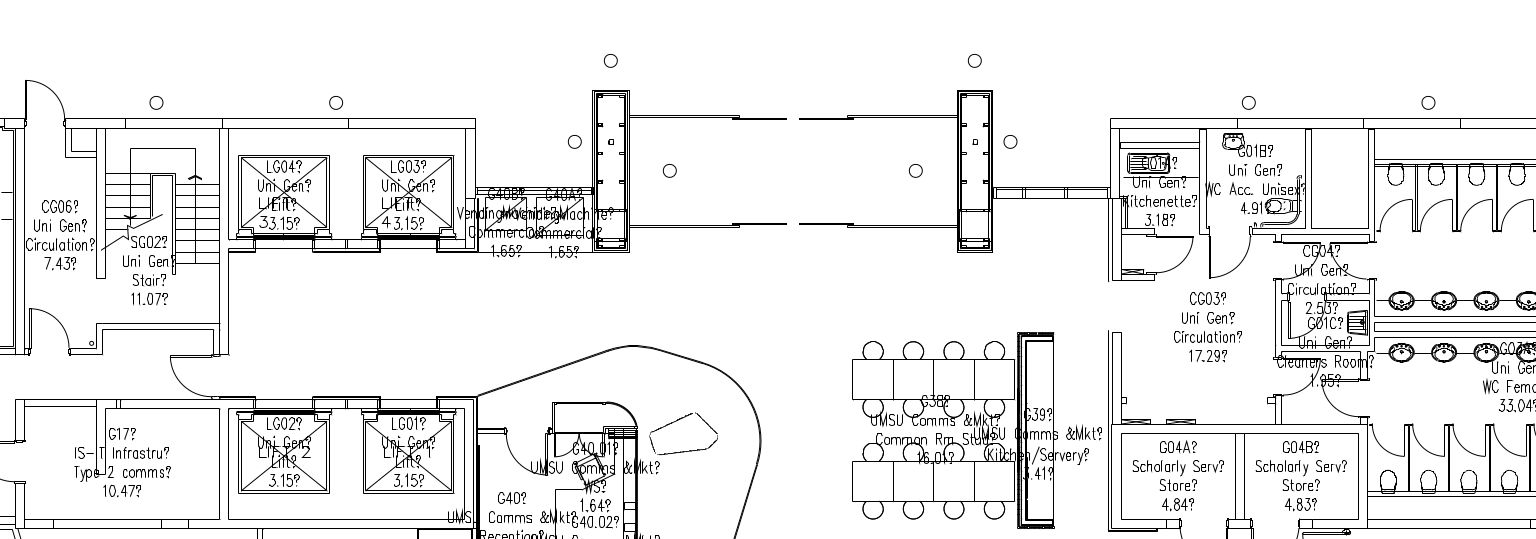door: (29, 302, 74, 350), (22, 71, 67, 119), (505, 431, 550, 479), (1456, 192, 1495, 239), (1210, 235, 1249, 282), (1154, 236, 1193, 283), (1318, 370, 1357, 417), (1371, 415, 1407, 459), (1409, 415, 1445, 459), (1450, 417, 1486, 461), (1377, 192, 1413, 236), (1418, 193, 1454, 237)
